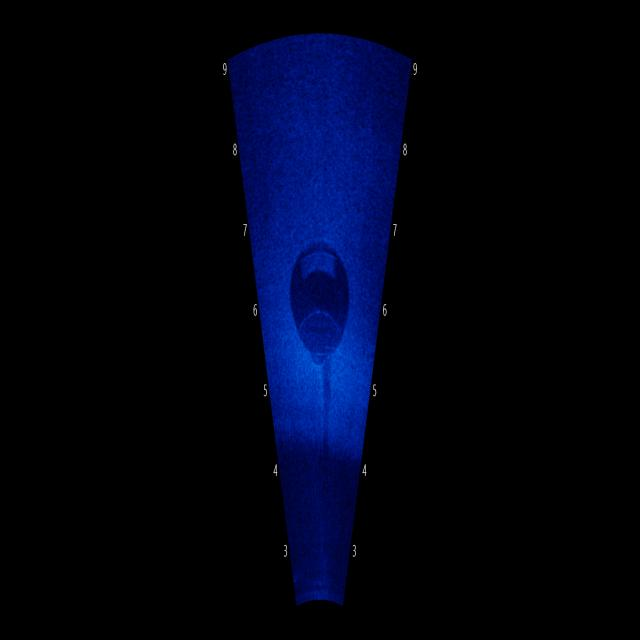circle: (278, 215, 357, 384)
